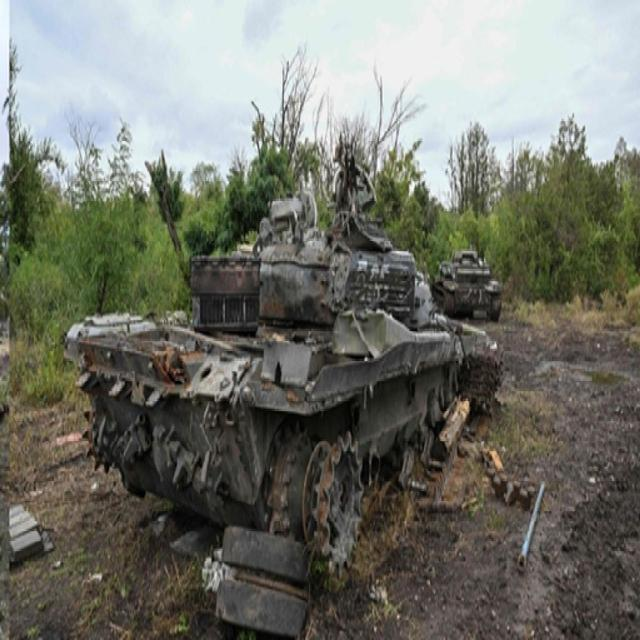TANK: (61, 193, 464, 569), (426, 244, 502, 324)
